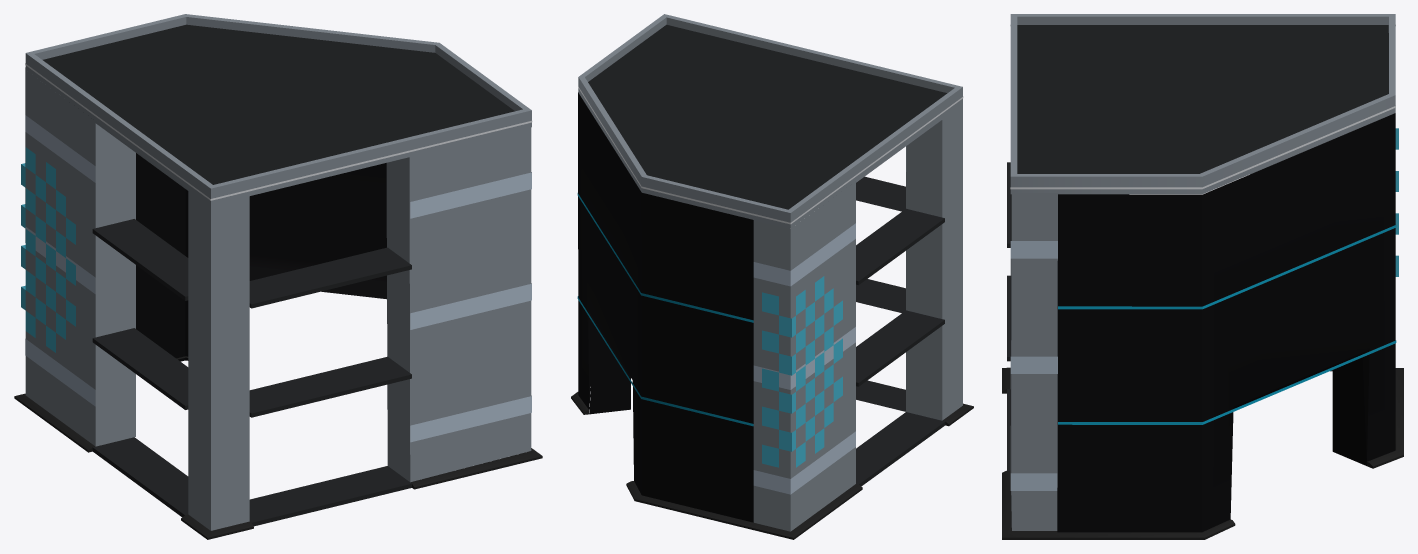
Rendered from Building_Basic_001_L3.fbx.
3 views of the same model, side by side, from view 1: azimuth 30°, elevation 25°; view 2: azimuth 150°, elevation 25°; view 3: azimuth 270°, elevation 25° (orthographic). The views are drawn at different scales.
Visible parts, largest first — view 1: Building_Basic_001_L3; view 2: Building_Basic_001_L3; view 3: Building_Basic_001_L3.
Part boxes in pixels (left/top/right/bottom): Building_Basic_001_L3: left=14, top=14, right=542, bottom=539; Building_Basic_001_L3: left=571, top=14, right=973, bottom=539; Building_Basic_001_L3: left=1002, top=14, right=1403, bottom=539.
Bounding box in the file's own units: 16.7 × 16.5 × 16.7.
